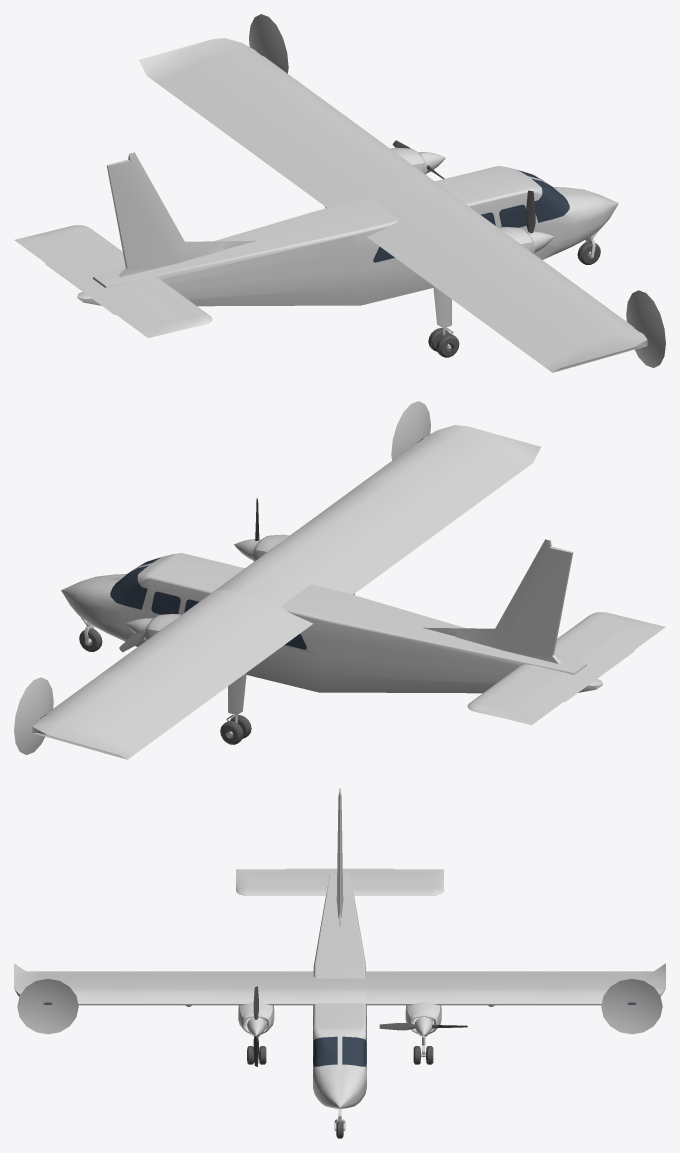
3 renders of one model, top to bottom at view 1: azimuth 30°, elevation 25°; view 2: azimuth 150°, elevation 25°; view 3: azimuth 270°, elevation 25°, orthographic. The views are drawn at different scales.
Parts seen in each view (by area): view 1: body, glass, trim; view 2: body, glass, trim; view 3: body, glass, trim.
Boxes of the visible parts, x1,y1,x2,y2 form: body: [14, 14, 665, 372]; glass: [256, 51, 639, 331]; trim: [428, 241, 600, 357]; body: [14, 401, 665, 759]; glass: [40, 438, 423, 718]; trim: [79, 628, 251, 744]; body: [14, 788, 665, 1130]; glass: [43, 1002, 636, 1066]; trim: [247, 1046, 433, 1138].
Bounding box in the file's own units: 1.63 × 0.6465 × 2.2.
